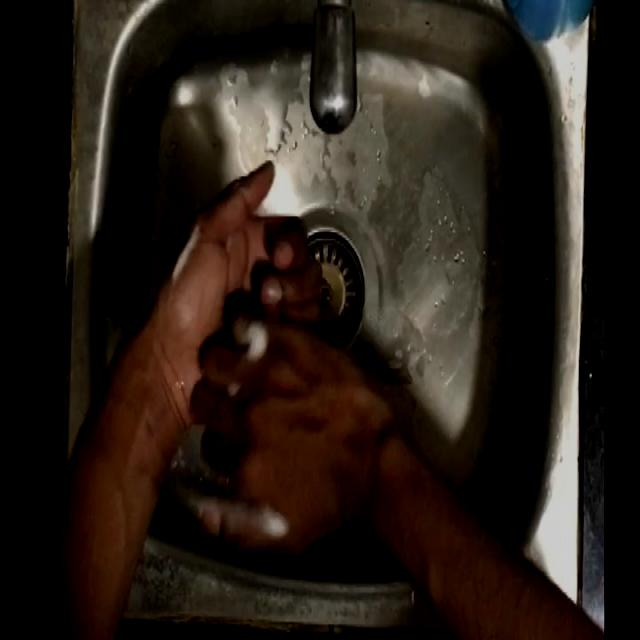step_4: (172, 155, 401, 482)
